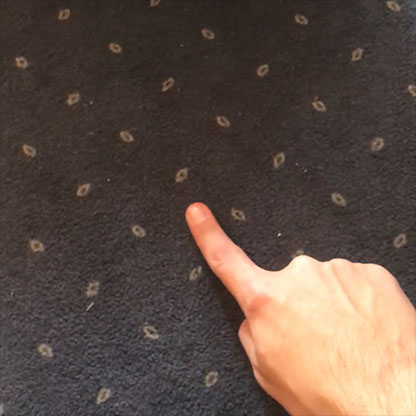fingertip: (173, 196, 223, 229)
